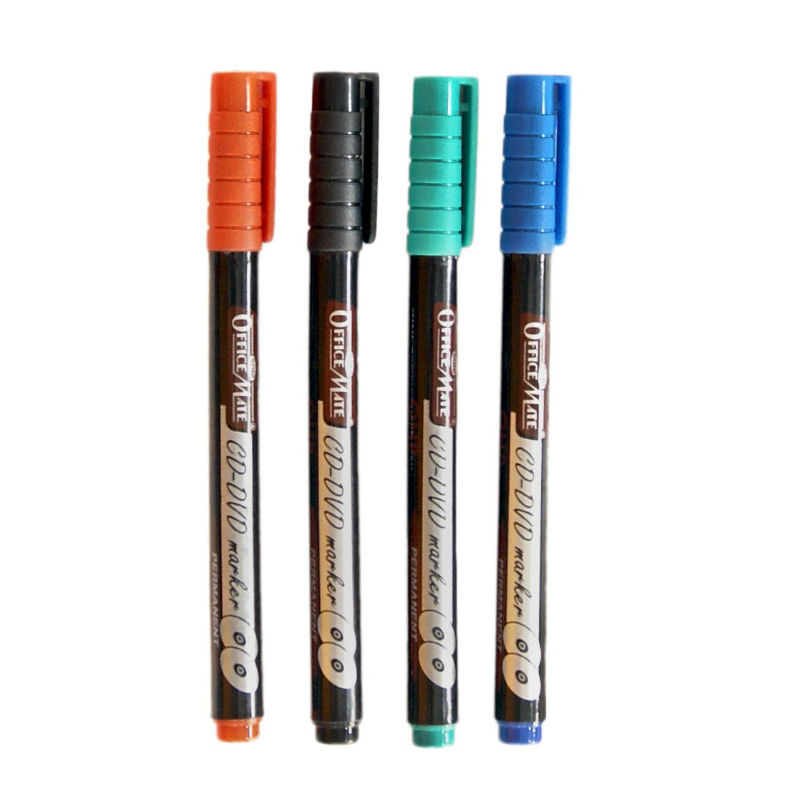Nonrec_Other: (184, 60, 289, 755), (298, 61, 374, 754), (404, 63, 470, 755), (490, 61, 555, 751)
